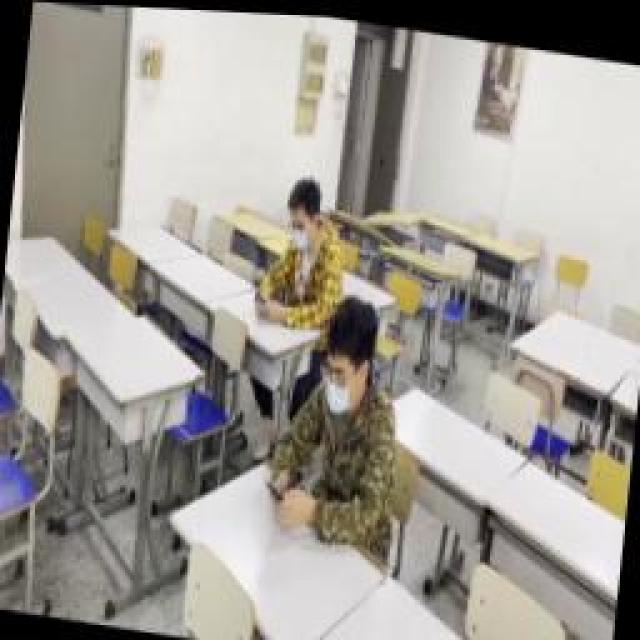phone: (263, 320, 405, 545), (252, 173, 338, 325)
